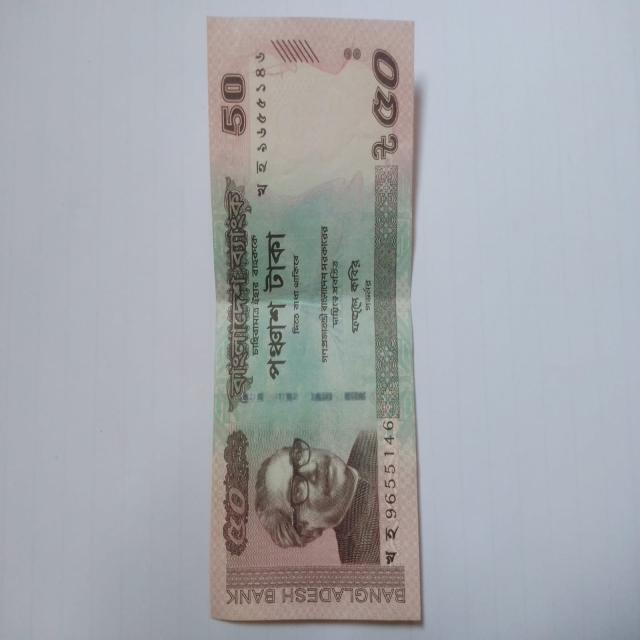Taka: (203, 11, 424, 628)
